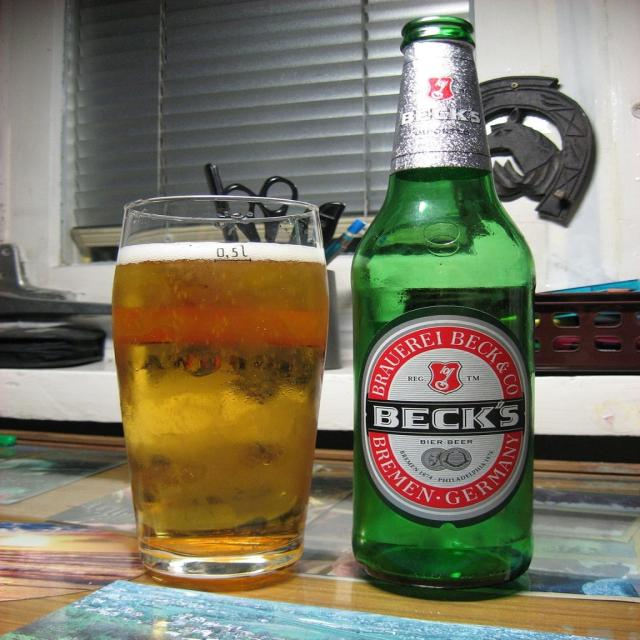becks: (360, 315, 530, 522)
